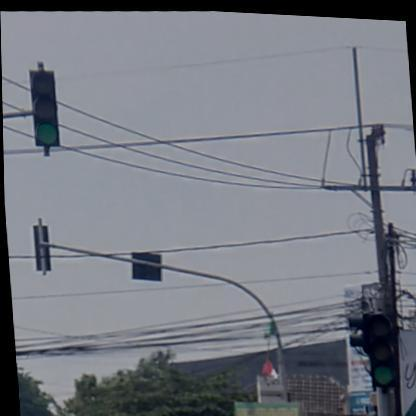green: (28, 68, 62, 148), (364, 309, 396, 383)
